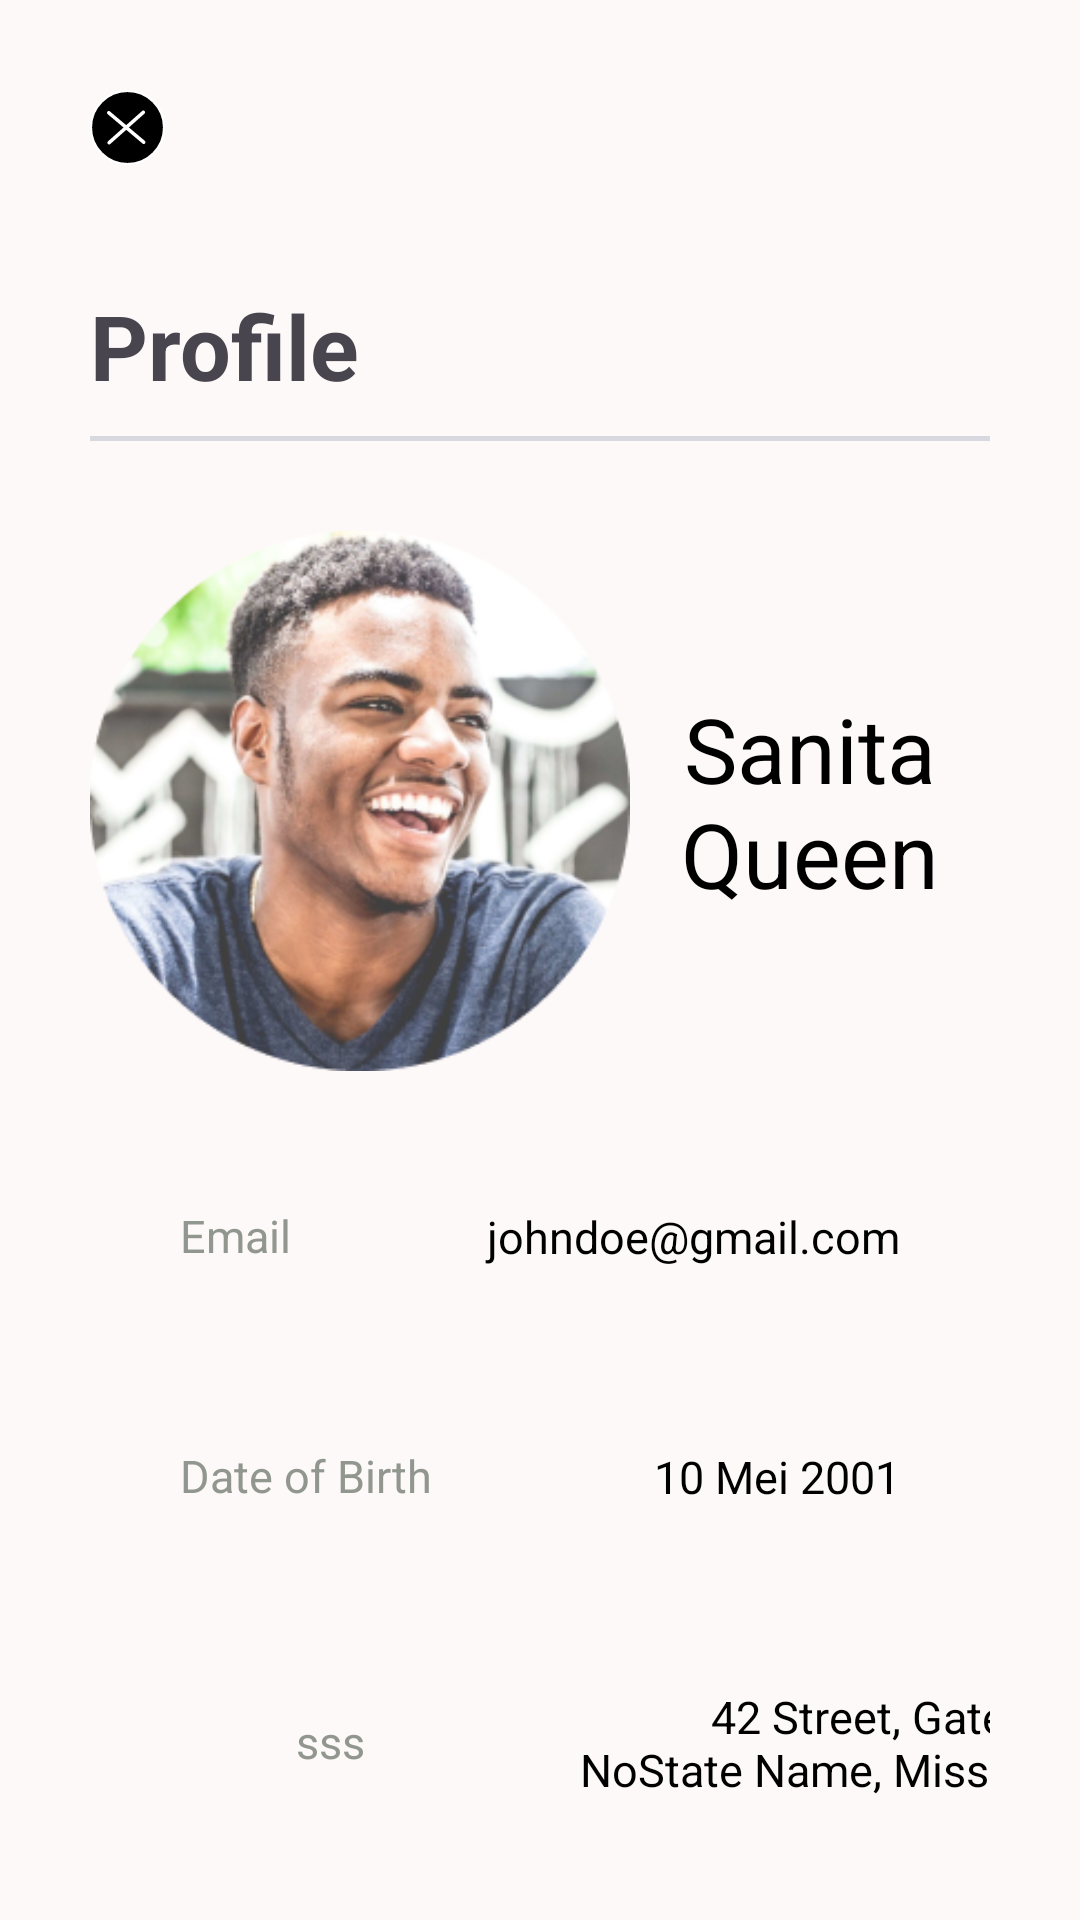

Where to tap for icons on this 1080x1920 app screen, as point (x, y):
close: point (127, 127)
